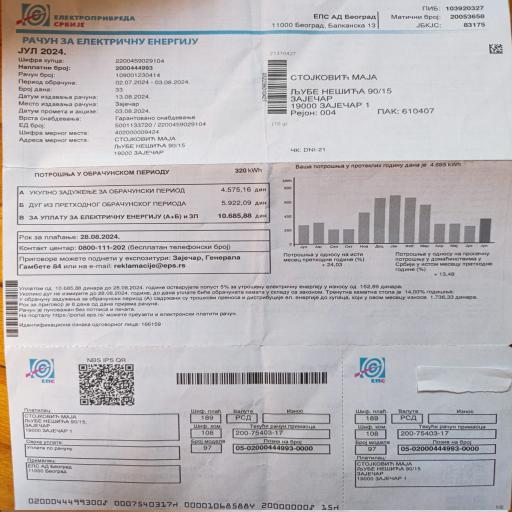racun_za_struju: (12, 165, 276, 242)
